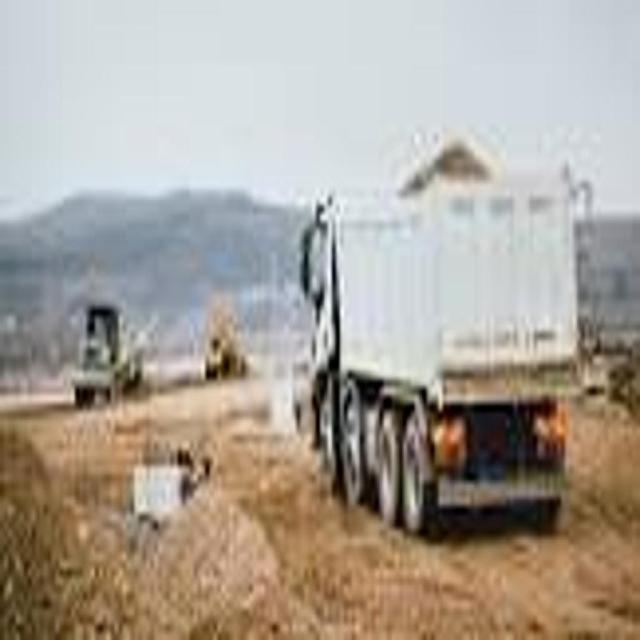dump_truck: (299, 122, 582, 551)
